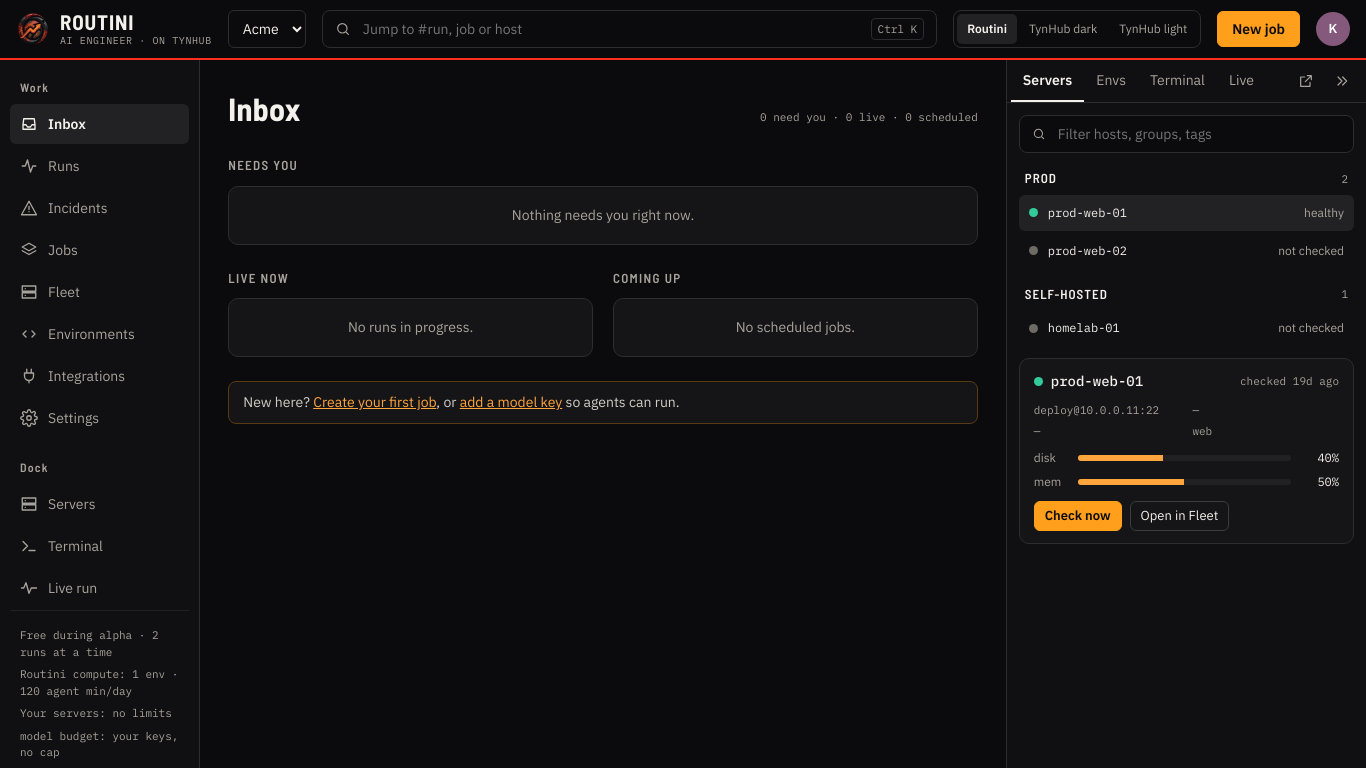
Scenario: dock and theme › lists hosts by group and runs a health check
The image size is (1366, 768).
Expected: the text "prod" is shown, top-left (1025, 169), bottom-right (1057, 189)
Expected: the text "self-hosted" is shown, top-left (1025, 285), bottom-right (1108, 304)
Click the text "prod-web-02". click: coordinates (1087, 250)
box: top-left (1048, 243), bottom-right (1127, 258)
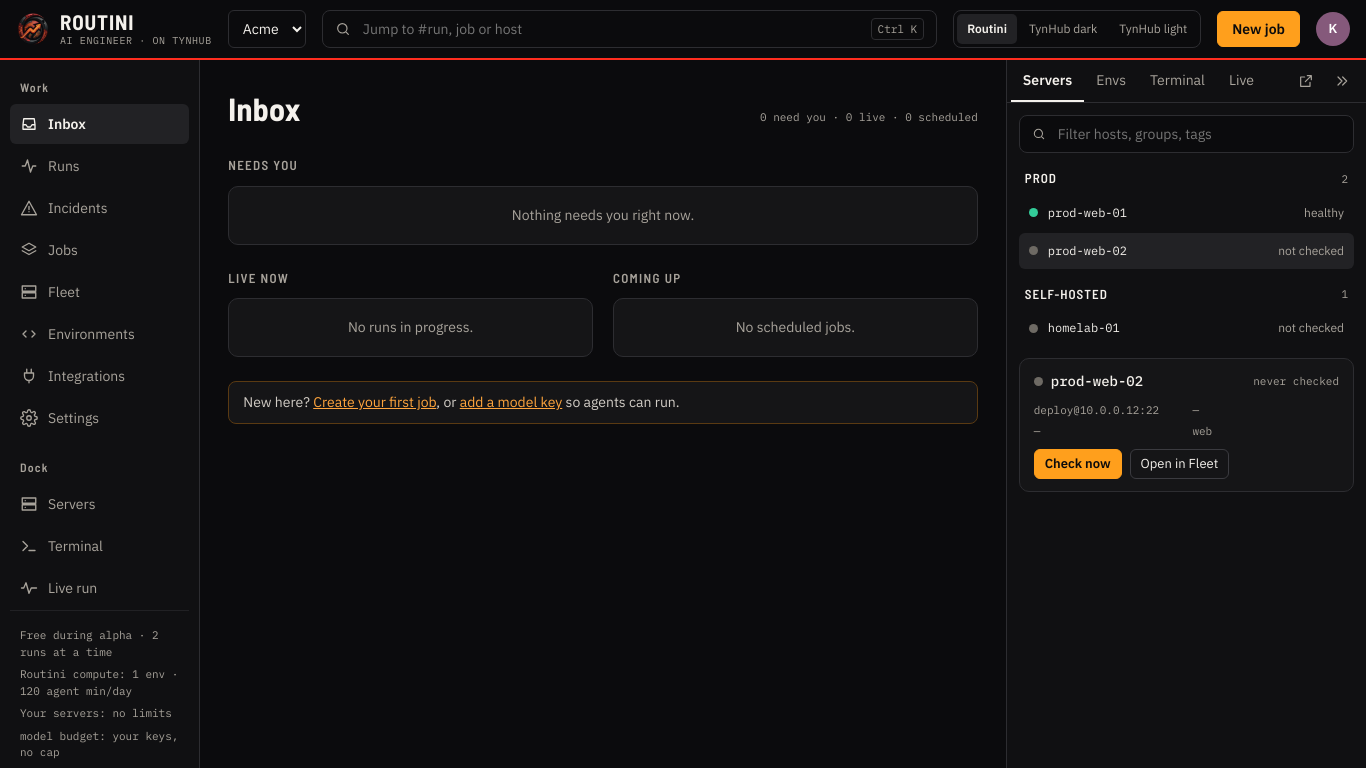
Click the button "Check now". click: coordinates (1078, 464)
box: top-left (1034, 449), bottom-right (1122, 479)
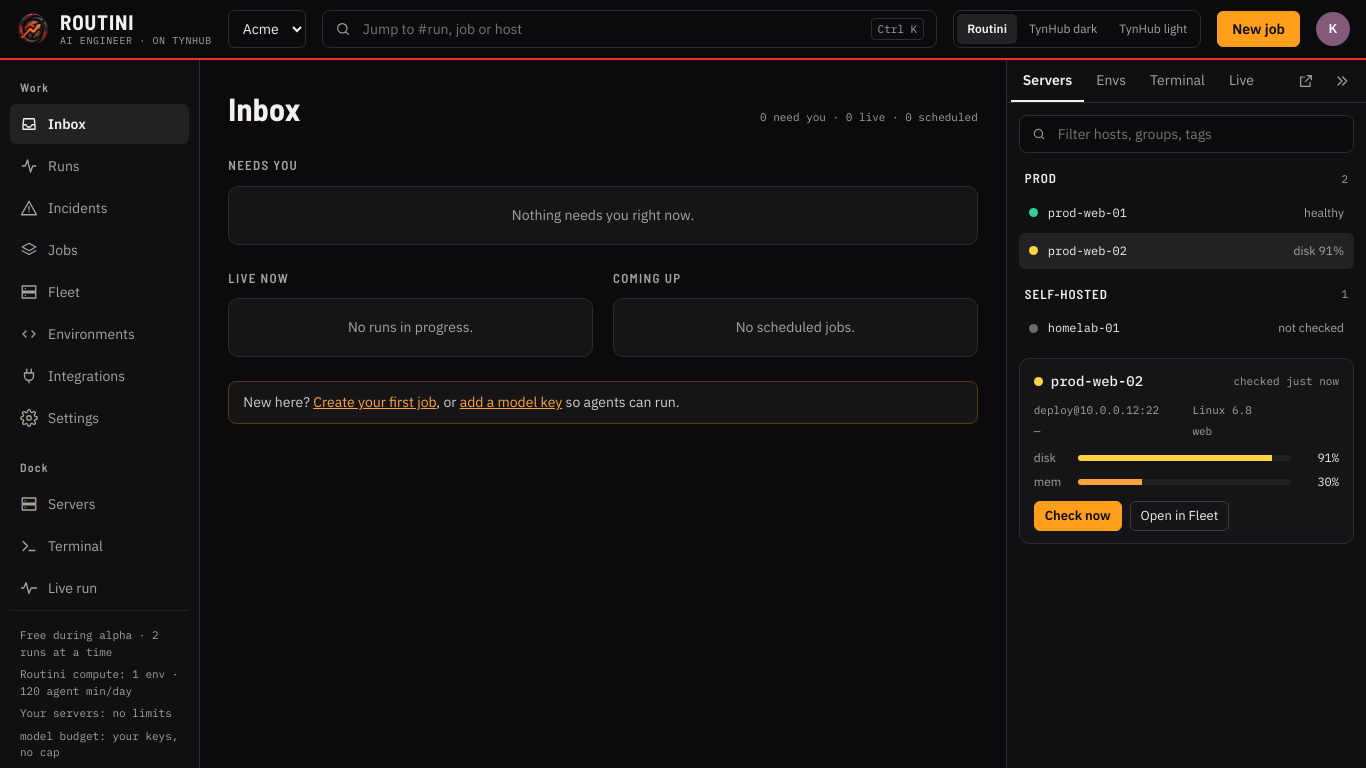
Result: the text "disk 91%" is shown at top-left (1294, 242), bottom-right (1344, 260)
